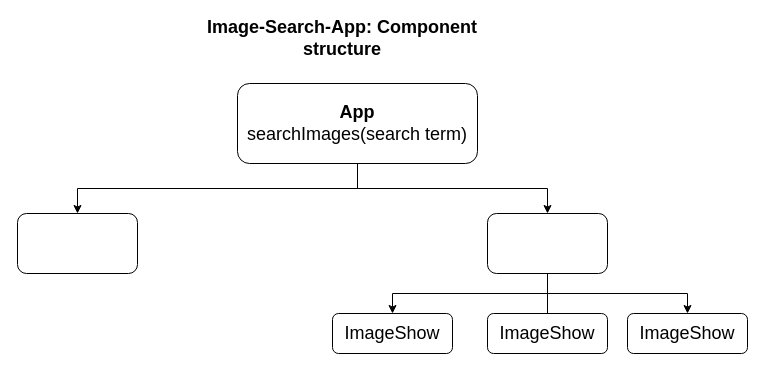
Image size: 765x371. Some labels were removed from this diagram. Here are the shapes that lost their labels. From the top down, the centre of each, then its label:
At (77,243): "SearchBar (search term)".
At (547,243): "ImageList".
